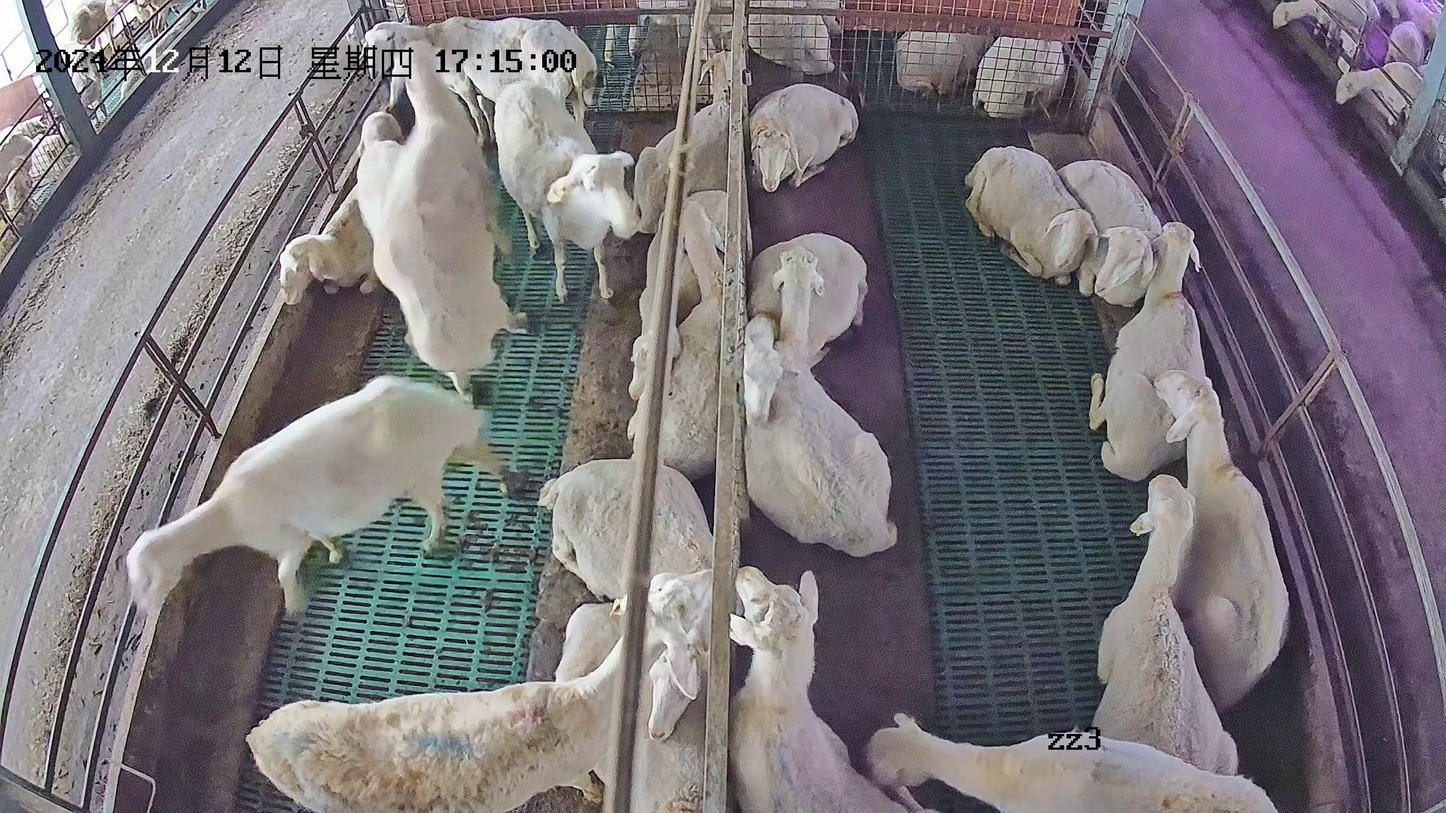Smounting: (353, 36, 528, 399)
mounted: (356, 104, 444, 354)
